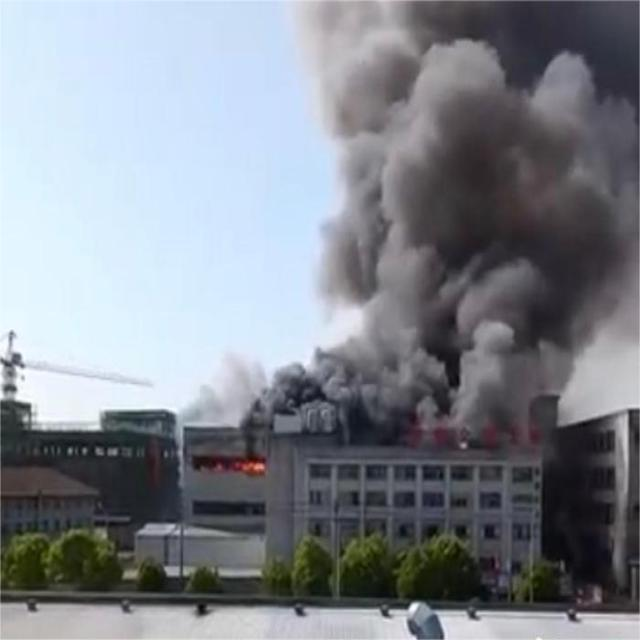Smoke: (252, 1, 640, 416)
